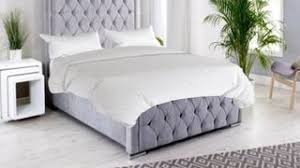bed-matress: (49, 46, 246, 109)
